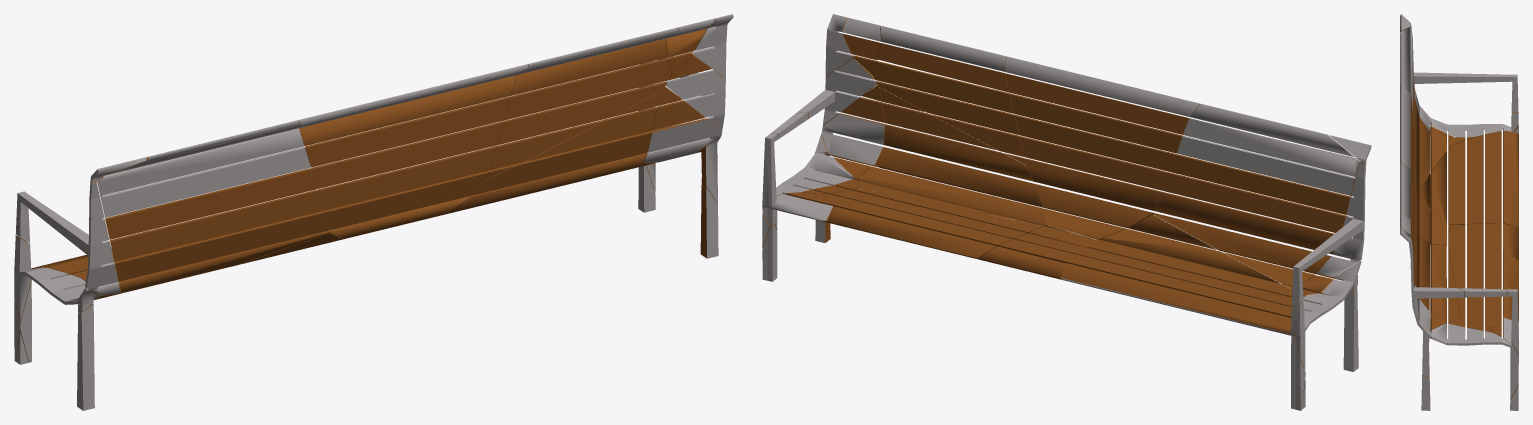
The model's file is BenchShadder.fbx.
The picture shows the model from 3 angles, left to right: view 1: azimuth 30°, elevation 25°; view 2: azimuth 150°, elevation 25°; view 3: azimuth 270°, elevation 25°; orthographic projection. The views are drawn at different scales.
Parts seen in each view (by area): view 1: Bench_cell.053, Bench_cell.057, Bench_cell.058, Bench_cell.027, Bench_cell.059, Bench_cell.030, Bench_cell.025, Bench_cell.029, Bench_cell.032, Bench_cell.052, Bench_cell.026, Bench_cell.048 (+21 smaller); view 2: Bench_cell.053, Bench_cell.019, Bench_cell.057, Bench_cell.059, Bench_cell.070, Bench_cell.058, Bench_cell.025, Bench_cell.027, Bench_cell.071, Bench_cell.032, Bench_cell.030, Bench_cell.023 (+39 smaller); view 3: Bench_cell.021, Bench_cell.062, Bench_cell.019, Bench_cell.061, Bench_cell.060, Bench_cell.032, Bench_cell.075, Bench_cell.076, Bench_cell.071, Bench_cell.016, Bench_cell.064, Bench_cell.023 (+36 smaller).
Part boxes in pixels (<box>): Bench_cell.053: <box>97,128,310,217</box>; Bench_cell.057: <box>110,190,323,261</box>; Bench_cell.058: <box>105,168,317,239</box>; Bench_cell.027: <box>304,97,509,167</box>; Bench_cell.059: <box>114,211,328,281</box>; Bench_cell.030: <box>311,122,502,188</box>; Bench_cell.025: <box>299,75,516,145</box>; Bench_cell.029: <box>318,146,495,210</box>; Bench_cell.032: <box>15,179,120,295</box>; Bench_cell.052: <box>503,59,670,120</box>; Bench_cell.026: <box>473,131,651,195</box>; Bench_cell.048: <box>497,82,666,145</box>; Bench_cell.053: <box>1177,118,1360,195</box>; Bench_cell.019: <box>1061,263,1305,410</box>; Bench_cell.057: <box>1164,173,1347,232</box>; Bench_cell.059: <box>1155,192,1334,254</box>; Bench_cell.070: <box>875,147,1044,207</box>; Bench_cell.058: <box>1170,154,1352,214</box>; Bench_cell.025: <box>1005,73,1189,134</box>; Bench_cell.027: <box>1010,93,1183,153</box>; Bench_cell.071: <box>860,167,1046,225</box>; Bench_cell.032: <box>1291,162,1366,307</box>; Bench_cell.030: <box>1015,115,1177,171</box>; Bench_cell.023: <box>1005,56,1199,116</box>; Bench_cell.021: <box>1429,323,1518,398</box>; Bench_cell.062: <box>1485,131,1501,223</box>; Bench_cell.019: <box>1503,127,1518,227</box>; Bench_cell.061: <box>1467,135,1483,224</box>; Bench_cell.060: <box>1448,141,1465,224</box>; Bench_cell.032: <box>1411,26,1518,131</box>; Bench_cell.075: <box>1467,248,1483,325</box>; Bench_cell.076: <box>1485,249,1501,325</box>; Bench_cell.071: <box>1430,244,1446,320</box>; Bench_cell.016: <box>1419,105,1518,137</box>; Bench_cell.064: <box>1430,151,1446,222</box>; Bench_cell.023: <box>1400,83,1410,168</box>.
Size of the model in its own units: 259 by 98.37 by 59.42.
